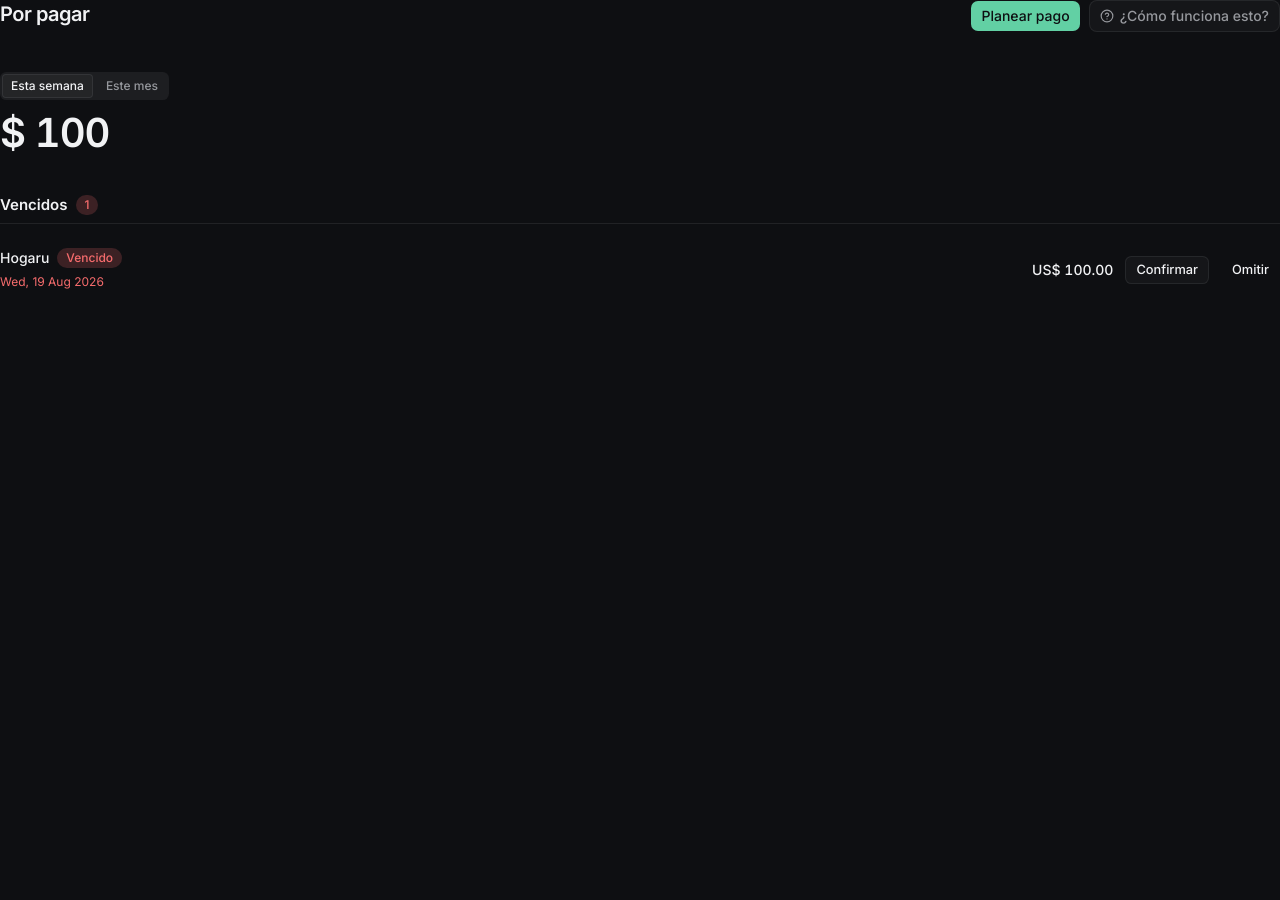
Test: 013 — confirming waits until the account's currency is known › Confirmar is unavailable while the list of accounts is still in flight
Click the button "Confirmar" at (1167, 270), box [1125,256,1209,284]
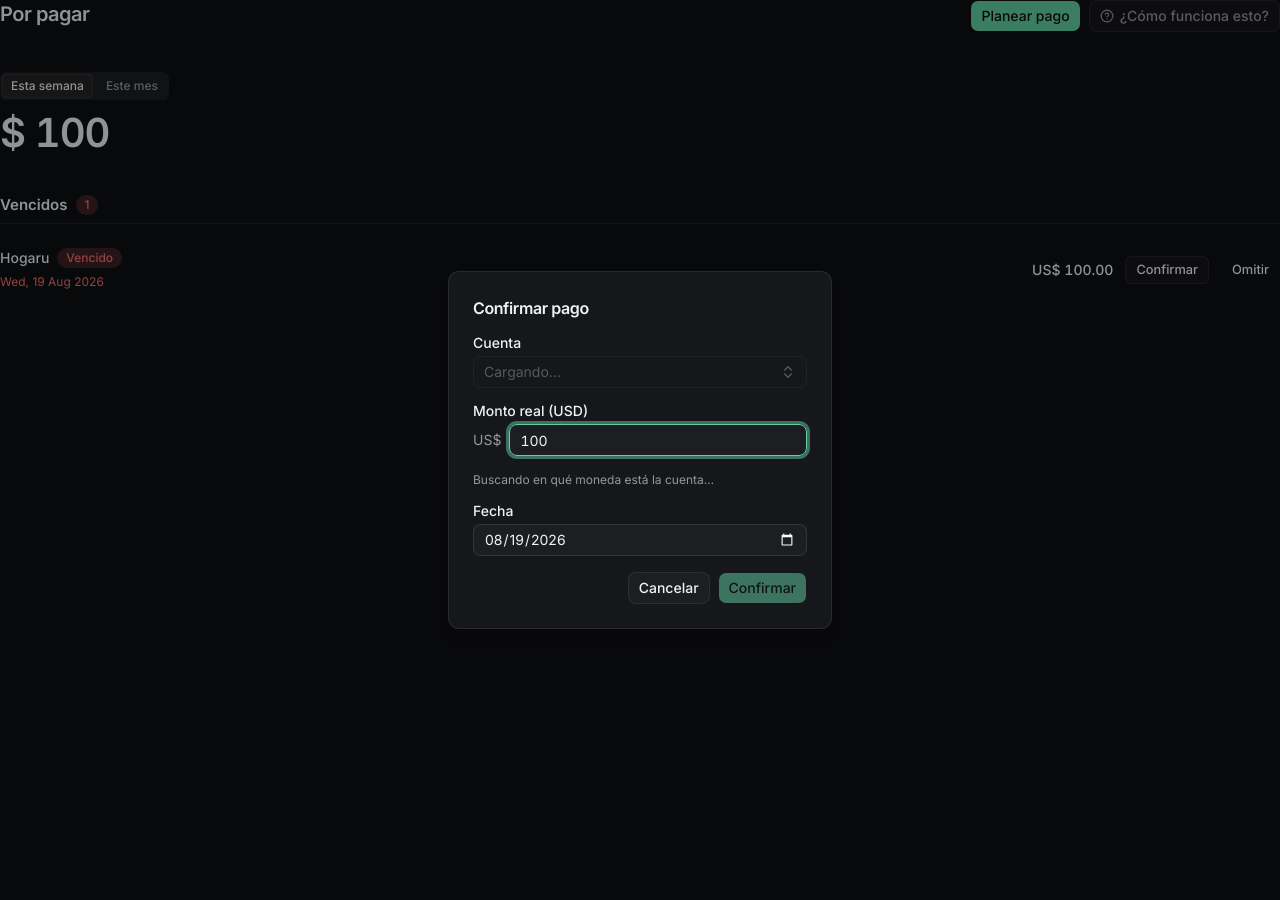
Expected: the field labelled "Monto real (USD)" is shown, [509,424,807,456]
Expected: the button "Confirmar" is disabled, [718,572,807,604]
Expected: the text "Buscando en qué moneda está la cuenta…" is shown, [473,472,714,487]
